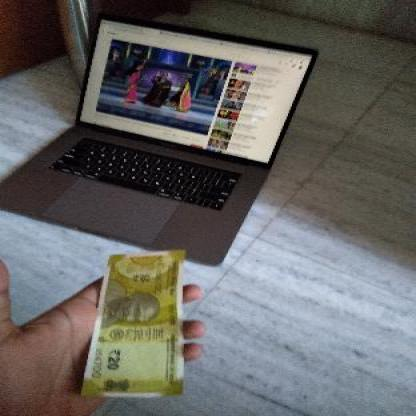New20Front: (85, 249, 183, 399)
